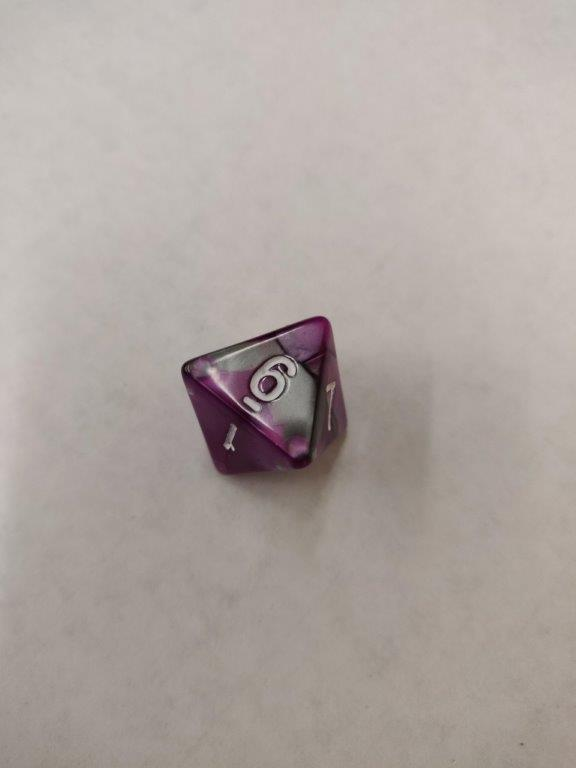d8-6: (180, 313, 349, 480)
